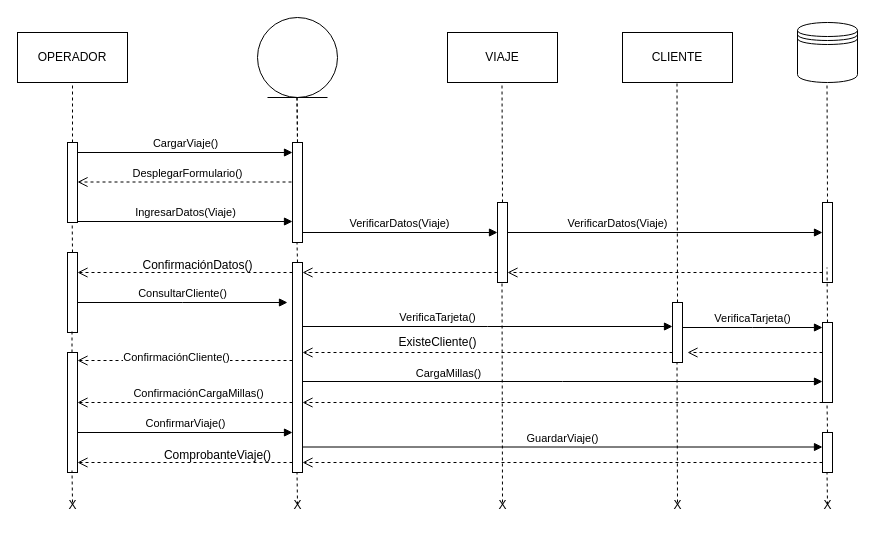
This 875x538 diagram has some shape labels left out. Each missing label, with the box of its shape:
BD: (796, 22, 858, 82)
SISTEMA: (256, 16, 338, 98)
